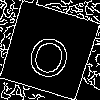O: (24, 25, 76, 82)
